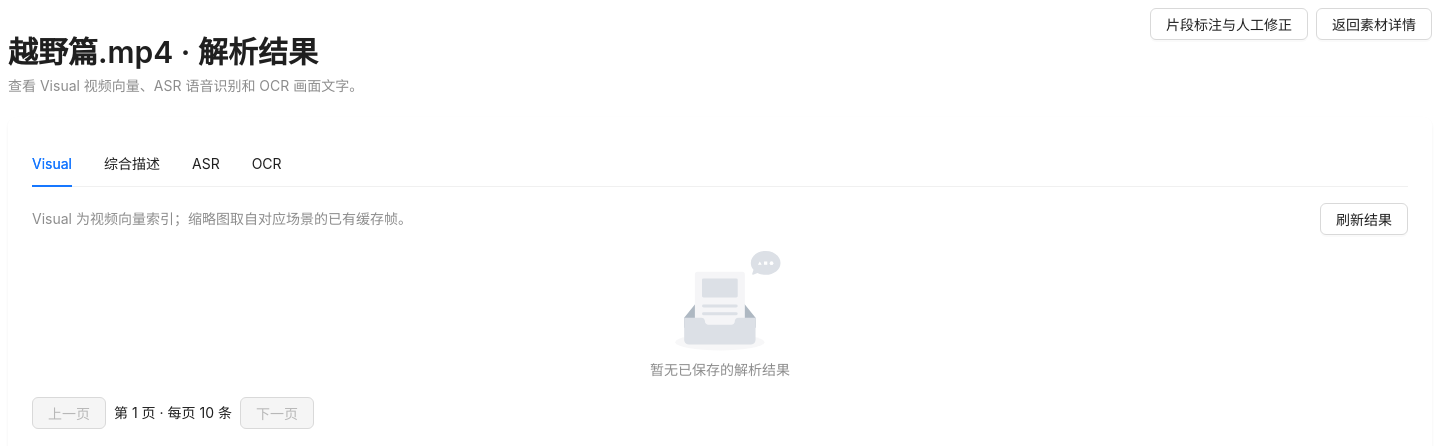
Test: index results › shows empty and failed result requests without hiding navigation
Expected: the text "暂无已保存的解析结果" is shown, [650,361,790,378]
Click the tab "ASR": (206, 164) [192,153,220,175]
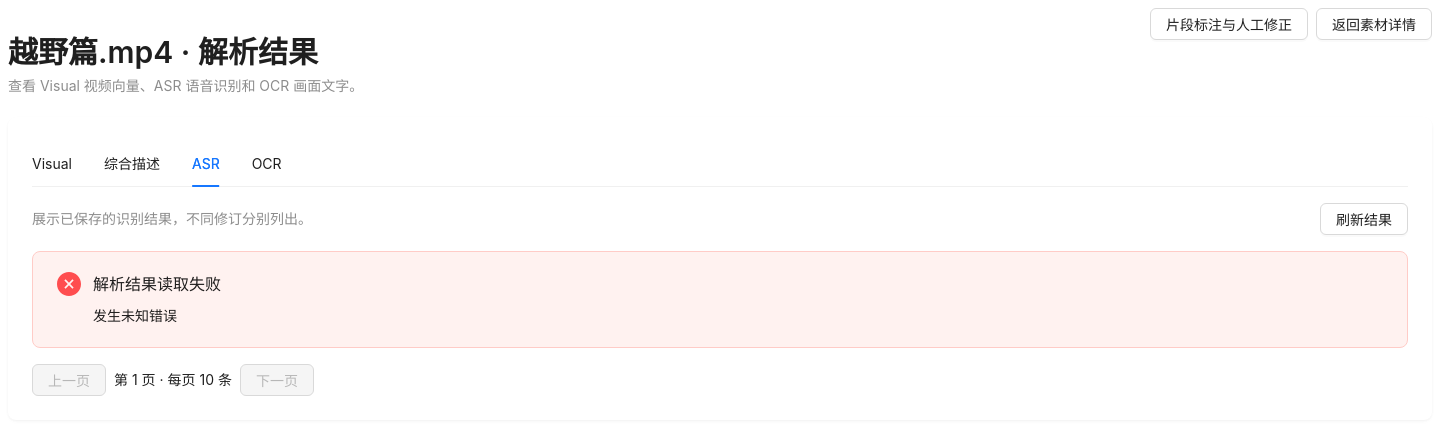
Expected: the link "返回素材详情" is shown, [1316,16,1432,33]
Now the text "解析结果读取失败" is shown, box [93,274,221,294]
